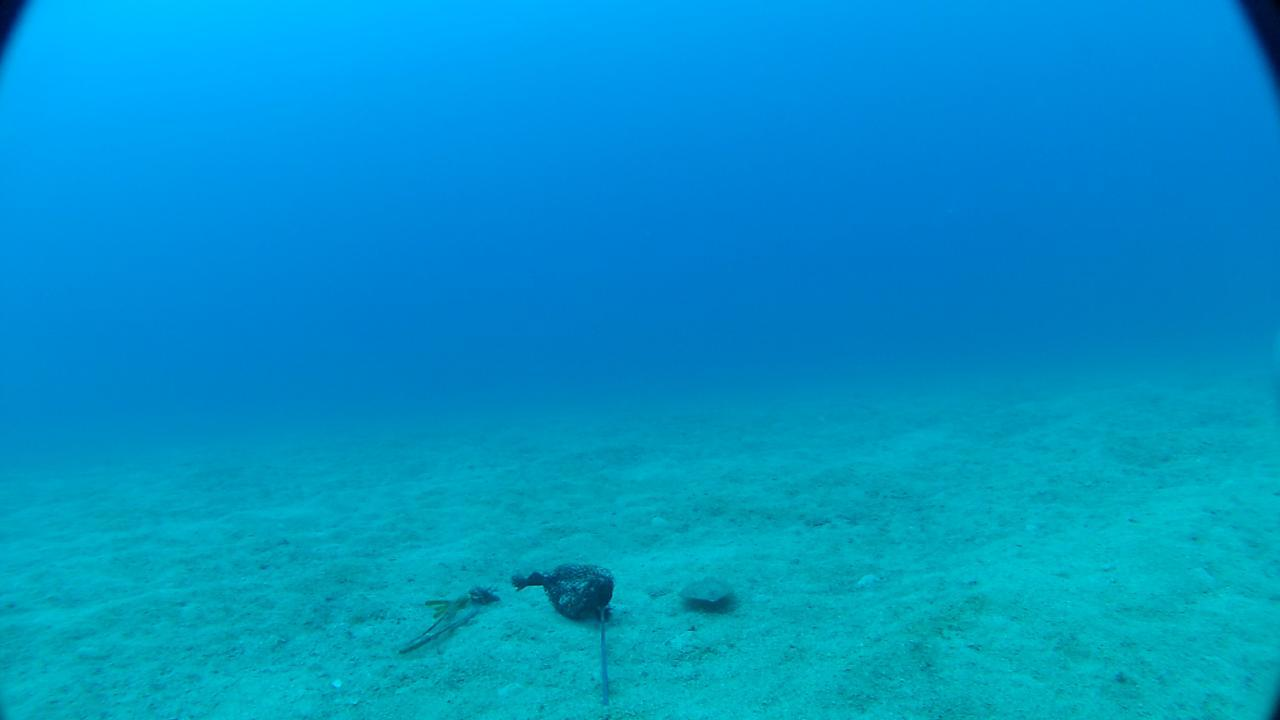bothus: (674, 572, 735, 608)
